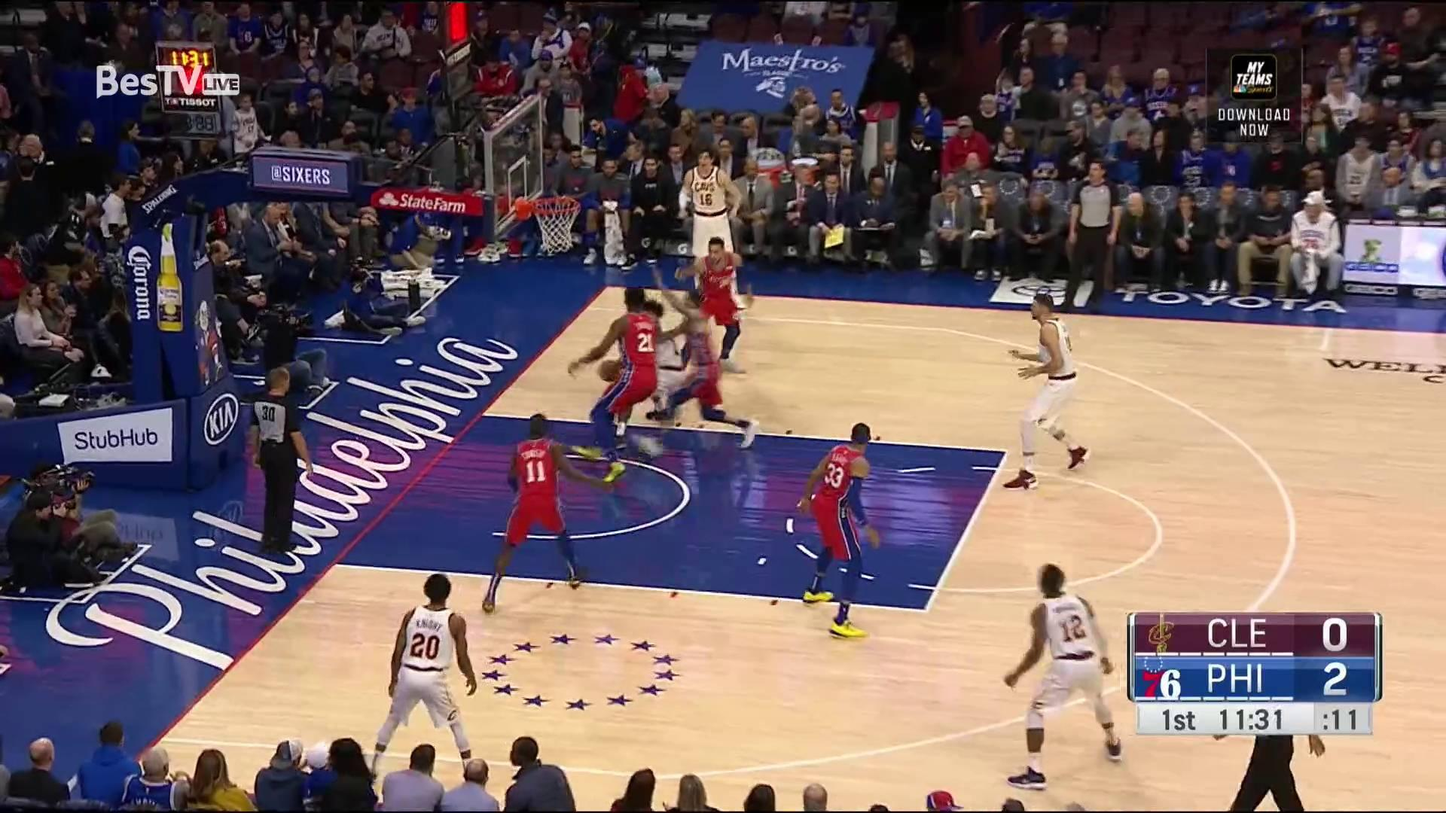basketball: (595, 358, 618, 386)
